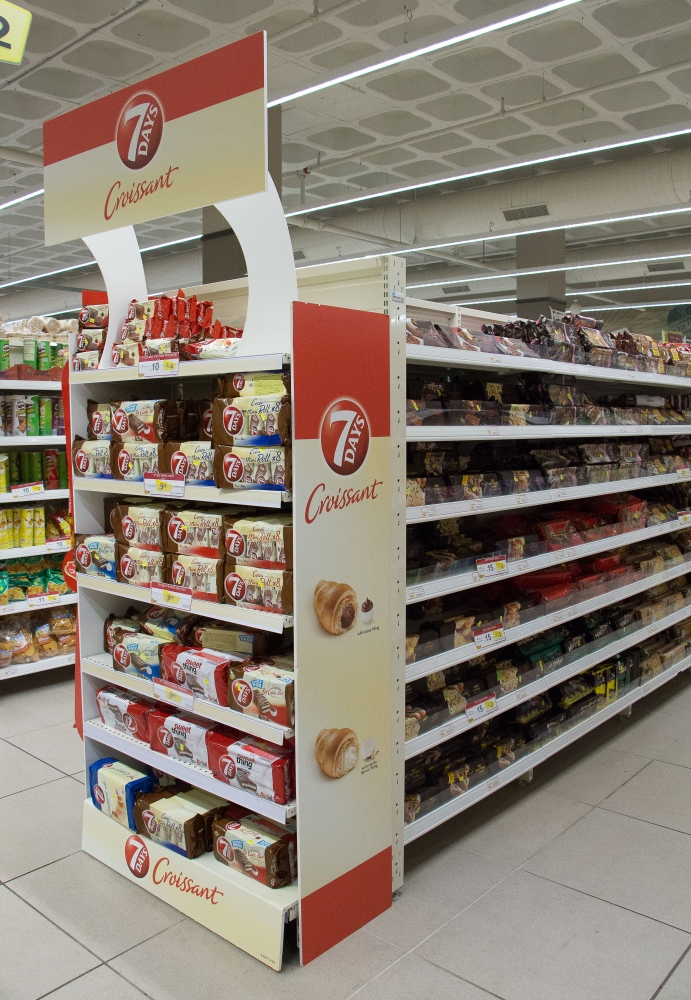7days: (216, 740, 284, 796), (157, 648, 227, 700), (212, 399, 289, 445), (215, 444, 291, 490), (222, 522, 290, 573), (151, 711, 214, 758), (109, 402, 168, 447), (225, 568, 289, 609), (111, 507, 167, 552), (165, 444, 218, 489), (111, 443, 167, 485), (167, 554, 223, 593)
